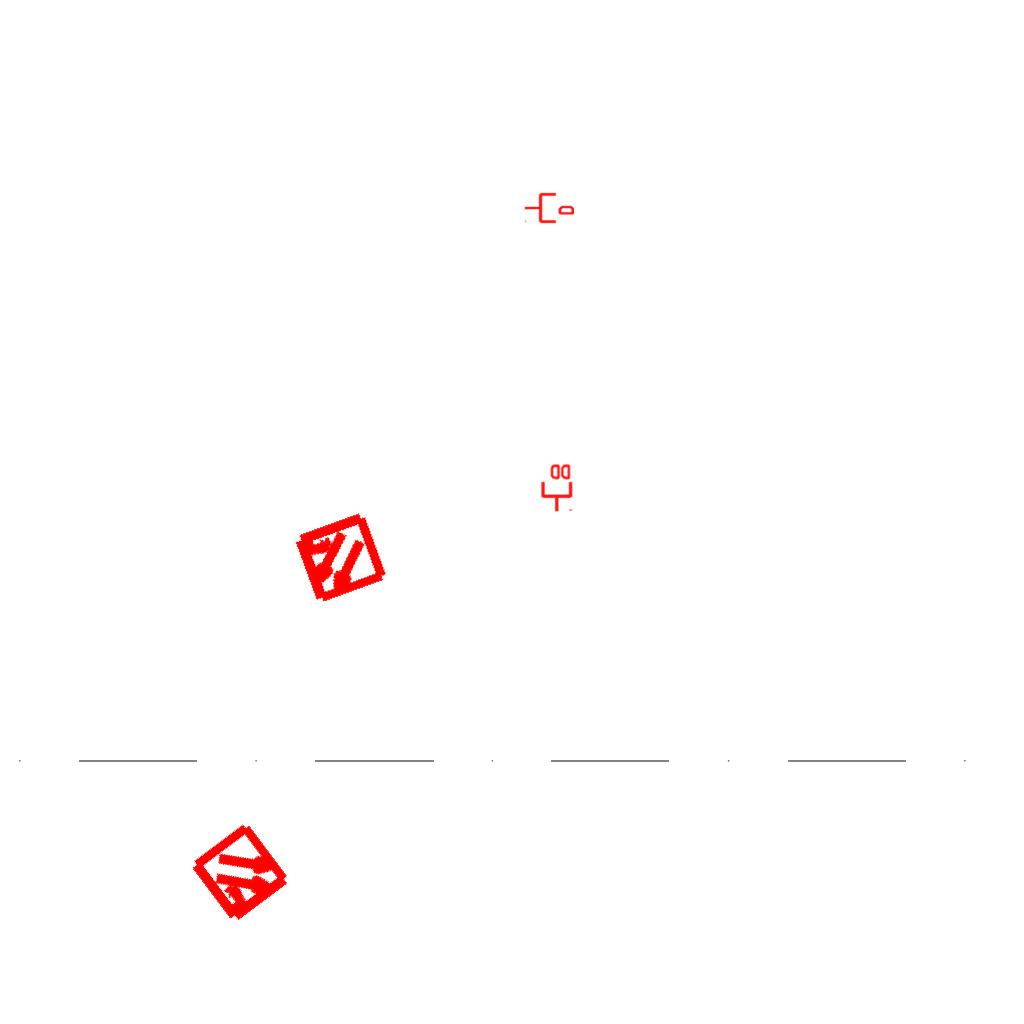Datenanschluss_einfach: (524, 191, 574, 225)
Datenanschluss_zweifach: (539, 462, 573, 513)
OT_Multisensormelder_(Kombination_RMO_WMD): (162, 795, 321, 954), (266, 486, 411, 631)
